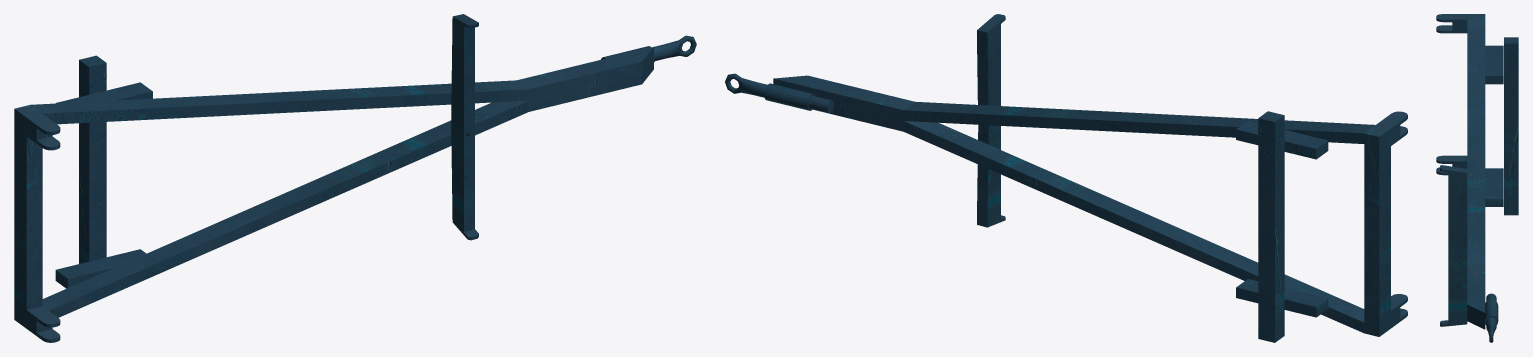
The model's file is chassis.obj.
The picture shows the model from 3 angles, left to right: view 1: azimuth 30°, elevation 25°; view 2: azimuth 150°, elevation 25°; view 3: azimuth 270°, elevation 25°; orthographic projection. The views are drawn at different scales.
Parts seen in each view (by area): view 1: chassis; view 2: chassis; view 3: chassis.
Part boxes in pixels (x1=…): chassis: x1=14, y1=14, x2=696, y2=342; chassis: x1=725, y1=14, x2=1407, y2=342; chassis: x1=1436, y1=14, x2=1518, y2=342.
Size of the model in its own units: 2.84 by 0.921 by 0.4014.
1 material, 1 textured.
